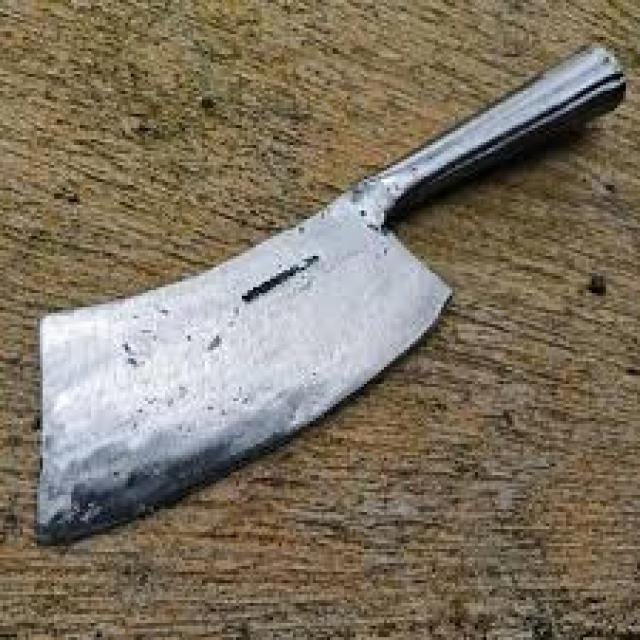Knife: (34, 46, 623, 543)
